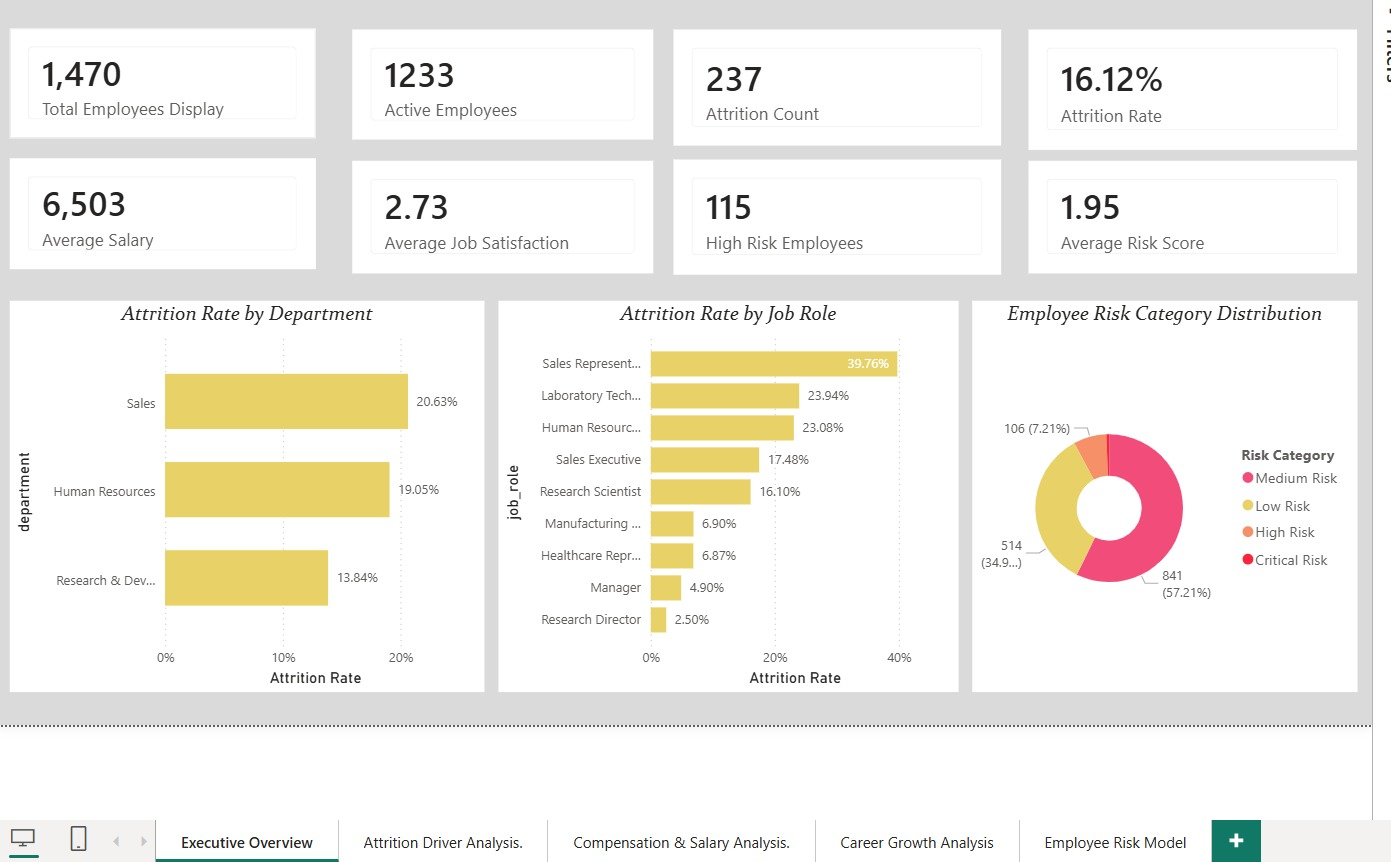

This screenshot's page, from the dashboard's own definition file:
{"tool":"powerbi","page":{"name":"Executive Overview","canvas":[1280,720],"ordinal":0},"visuals":[{"type":"cardVisual","fields":{"Data":["public employees.Average Salary"]},"box":[12.8,191.9,284.9,103.5],"z":0},{"type":"cardVisual","fields":{"Data":["public employee_attrition_risk.Average Risk Score"]},"box":[960.5,194.2,305.8,104.7],"z":1000},{"type":"cardVisual","fields":{"Data":["public employees.Active Employees"]},"box":[331.4,72.1,280.2,102.3],"z":2000},{"type":"cardVisual","fields":{"Data":["public employees.Average Job Satisfaction"]},"box":[331.4,194.2,280.2,104.7],"z":3000},{"type":"cardVisual","fields":{"Data":["public employee_attrition_risk.High Risk Employees"]},"box":[630.2,193,304.7,107],"z":4000},{"type":"cardVisual","fields":{"Data":["public employees.Attrition Count"]},"box":[630.2,72.1,304.7,108.1],"z":5000},{"type":"cardVisual","fields":{"Data":["public employees.Attrition Rate"]},"box":[960.5,72.1,305.8,111.6],"z":6000},{"type":"clusteredBarChart","title":"Attrition Rate by Department","fields":{"Category":["public employees.department"],"Y":["public employees.Attrition Rate"]},"box":[12.8,324.4,441.9,364],"z":7000},{"type":"clusteredBarChart","title":"Attrition Rate by Job Role","fields":{"Category":["public employees.job_role"],"Y":["public employees.Attrition Rate"]},"box":[467.4,324.4,427.9,364],"z":8000},{"type":"donutChart","title":"Employee Risk Category Distribution","fields":{"Category":["public employee_attrition_risk.risk_category"],"Y":["CountNonNull(public employees.employee_number)"]},"box":[908.1,324.4,358.1,364],"z":9000},{"type":"cardVisual","fields":{"Data":["public employee_attrition_risk.Total Employees Display"]},"box":[12.8,70.9,284.9,102.3],"z":10000}]}

Visuals, with their boxes on the page's 1280x720 design canvas (x1, y1, x2, y2). These are canvas units, not pixel positions in the 1391x862 screenshot, which may show the page scaled, cropped or inside an application window:
cardVisual - public employees.Average Salary: crop(13, 192, 298, 295)
cardVisual - public employee_attrition_risk.Average Risk Score: crop(960, 194, 1266, 299)
cardVisual - public employees.Active Employees: crop(331, 72, 612, 174)
cardVisual - public employees.Average Job Satisfaction: crop(331, 194, 612, 299)
cardVisual - public employee_attrition_risk.High Risk Employees: crop(630, 193, 935, 300)
cardVisual - public employees.Attrition Count: crop(630, 72, 935, 180)
cardVisual - public employees.Attrition Rate: crop(960, 72, 1266, 184)
"Attrition Rate by Department" clusteredBarChart: crop(13, 324, 455, 688)
"Attrition Rate by Job Role" clusteredBarChart: crop(467, 324, 895, 688)
"Employee Risk Category Distribution" donutChart: crop(908, 324, 1266, 688)
cardVisual - public employee_attrition_risk.Total Employees Display: crop(13, 71, 298, 173)
